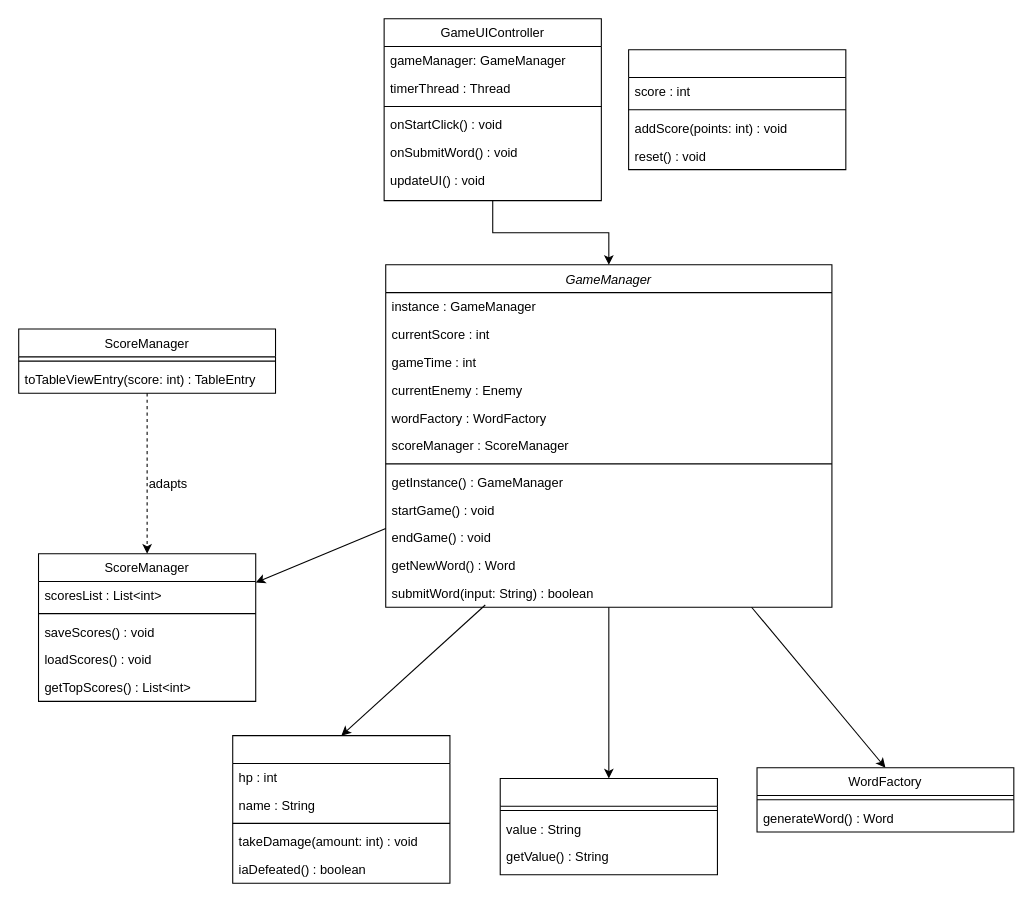
Some shapes in this 1033 by 905 pixel diagram are drawn without their labels. Each missing label, with the box of its shape:
Enemy: (232, 735, 450, 883)
Player: (628, 49, 846, 170)
Word: (499, 777, 717, 875)
